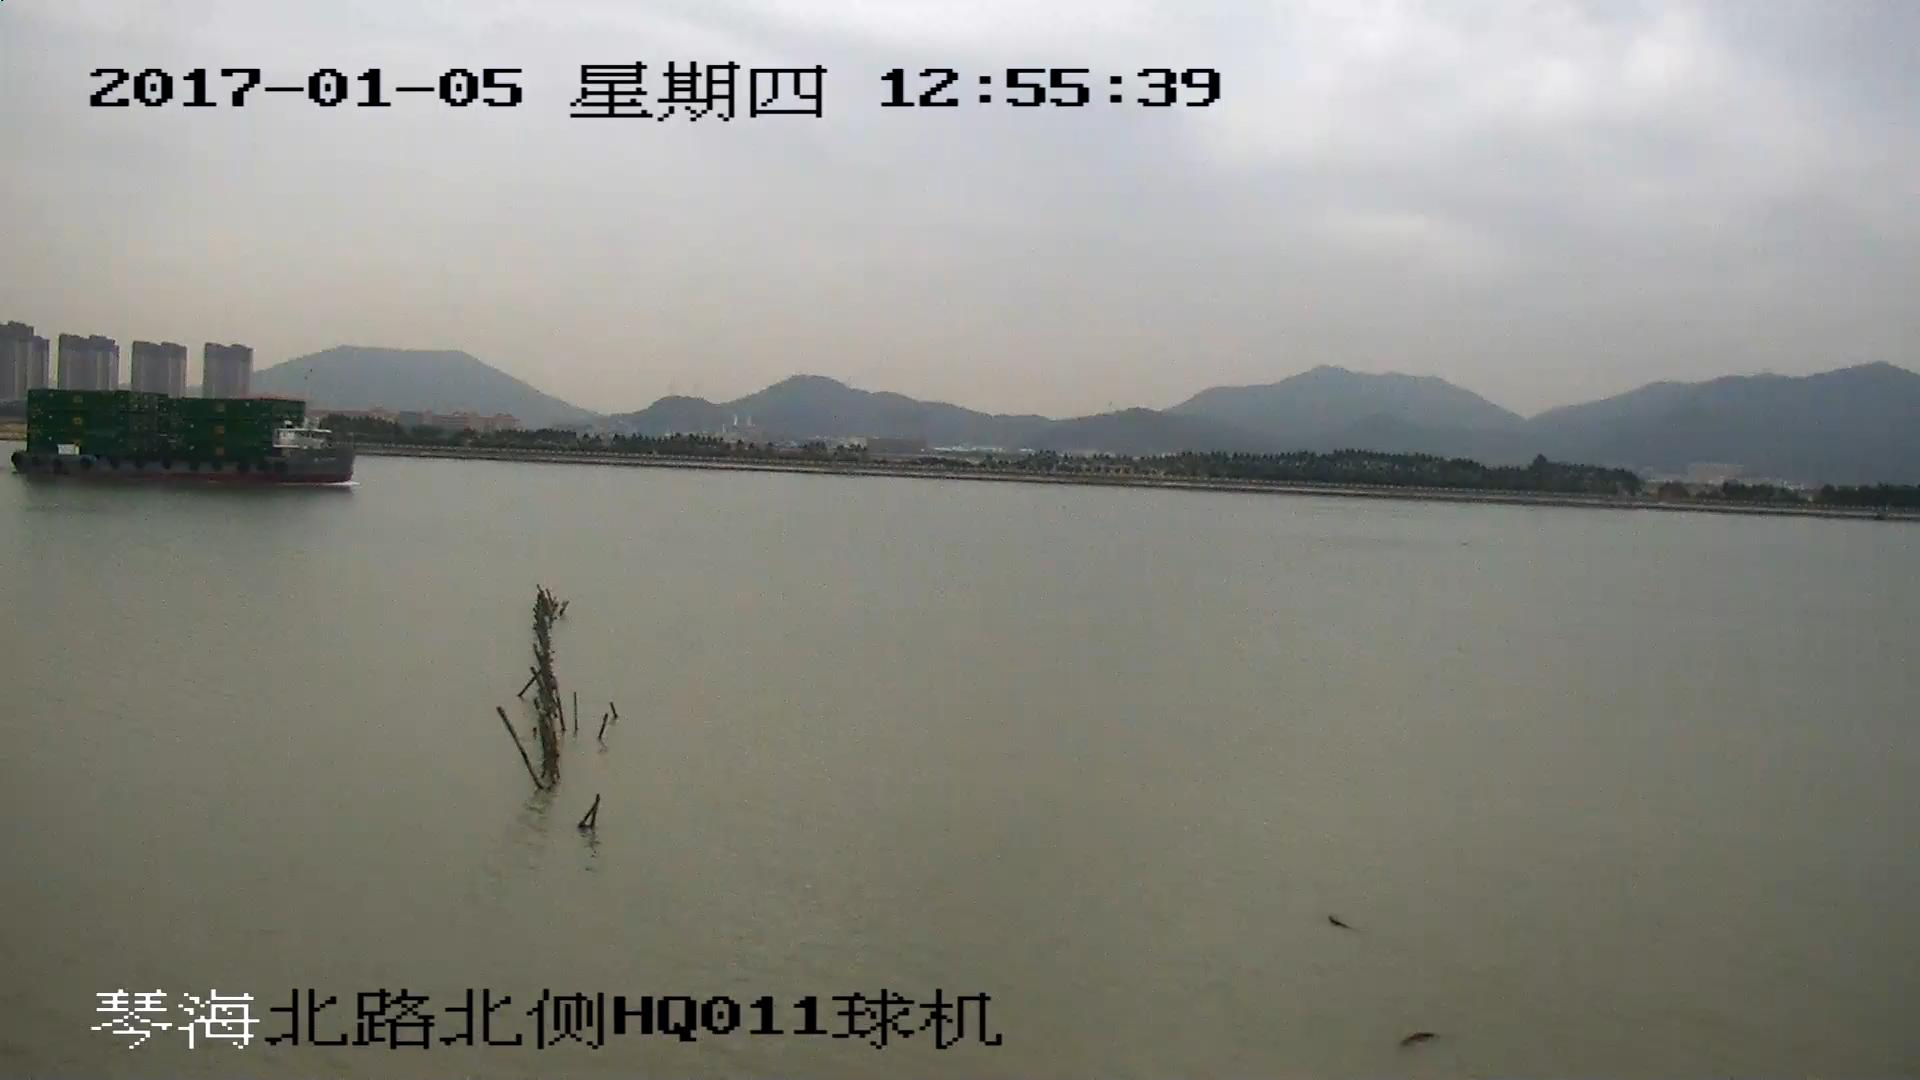container ship: (14, 384, 358, 484)
